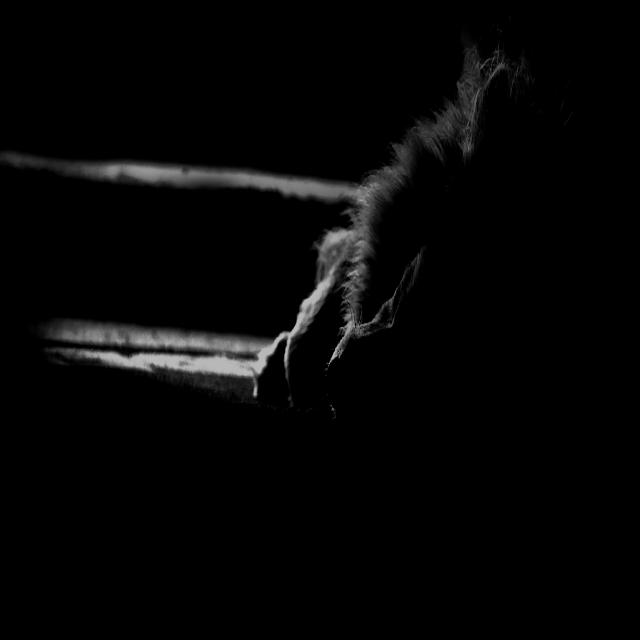Dog: (215, 24, 640, 498)
